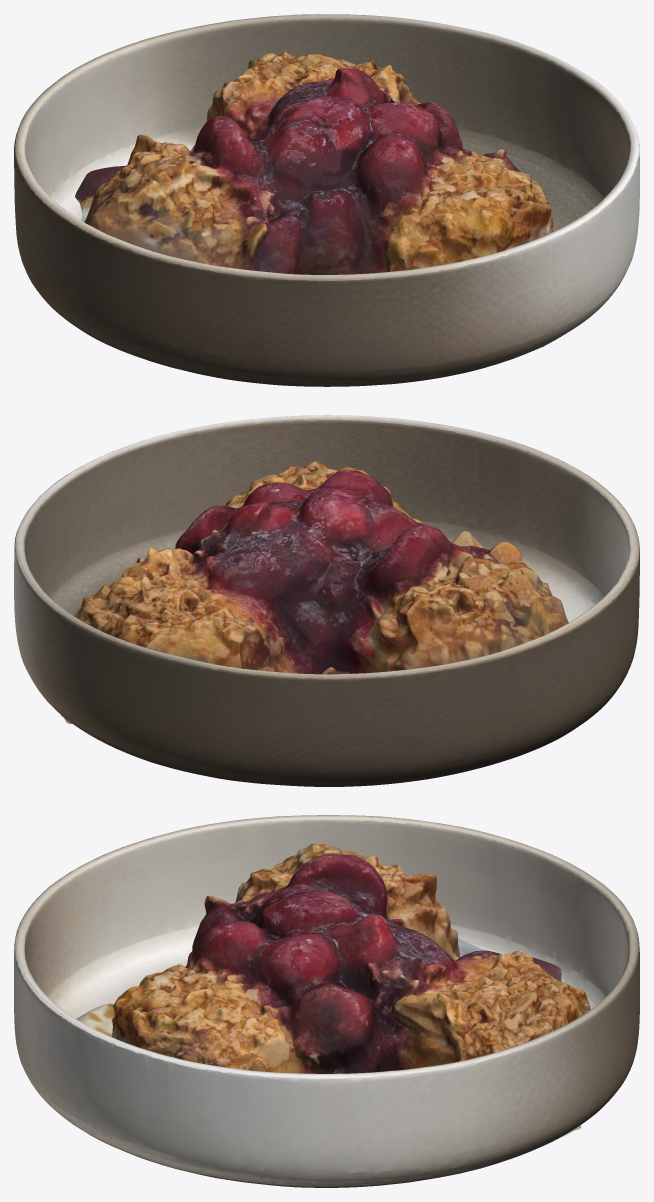
The model's file is set.crispywith.cherries.glb.
3 views of the same model, one above another, from view 1: azimuth 30°, elevation 25°; view 2: azimuth 150°, elevation 25°; view 3: azimuth 270°, elevation 25° (orthographic).
Visible parts, largest first — view 1: /Root/Scenes/Scene/Object_37/Object_41/Object_42/Submesh_0, /Root/Scenes/Scene/Object_37/Object_38/Submesh_0; view 2: /Root/Scenes/Scene/Object_37/Object_41/Object_42/Submesh_0, /Root/Scenes/Scene/Object_37/Object_38/Submesh_0; view 3: /Root/Scenes/Scene/Object_37/Object_41/Object_42/Submesh_0, /Root/Scenes/Scene/Object_37/Object_38/Submesh_0.
Boxes of the visible parts, left/top/right/bottom form: /Root/Scenes/Scene/Object_37/Object_41/Object_42/Submesh_0: left=14, top=14, right=639, bottom=386; /Root/Scenes/Scene/Object_37/Object_38/Submesh_0: left=75, top=52, right=556, bottom=346; /Root/Scenes/Scene/Object_37/Object_41/Object_42/Submesh_0: left=14, top=415, right=639, bottom=786; /Root/Scenes/Scene/Object_37/Object_38/Submesh_0: left=61, top=461, right=568, bottom=723; /Root/Scenes/Scene/Object_37/Object_41/Object_42/Submesh_0: left=14, top=815, right=639, bottom=1187; /Root/Scenes/Scene/Object_37/Object_38/Submesh_0: left=76, top=843, right=590, bottom=1137.
Size of the model in its own units: 0.1983 by 0.0624 by 0.1982.
2 materials, 2 textured.
